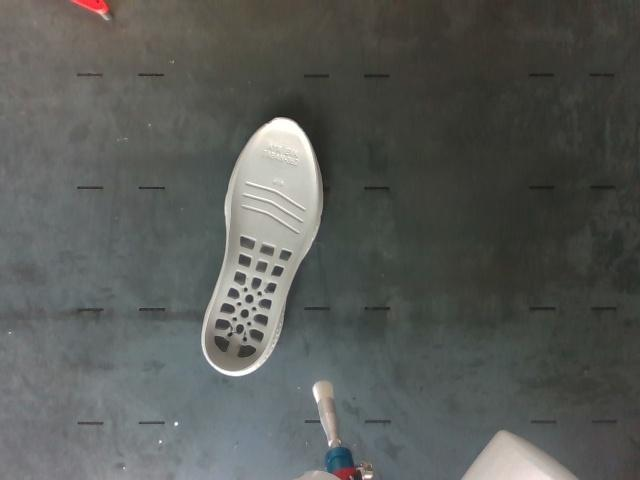shoes: (203, 118, 321, 372)
